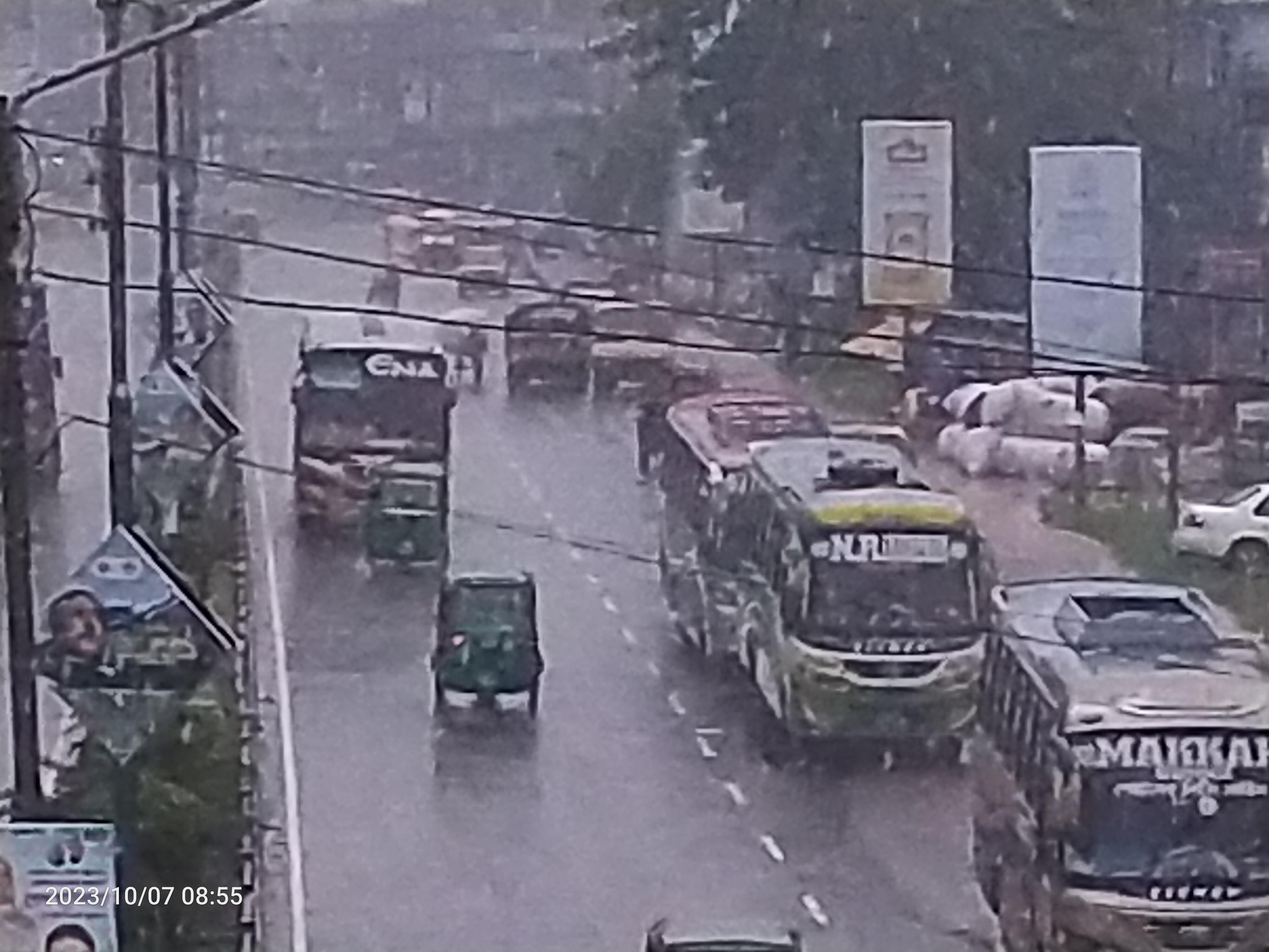Bus: (953, 557, 1269, 952), (718, 418, 1020, 791), (258, 301, 482, 536), (615, 393, 784, 650)
Car: (1162, 458, 1269, 591)
Truck: (479, 278, 603, 415)
